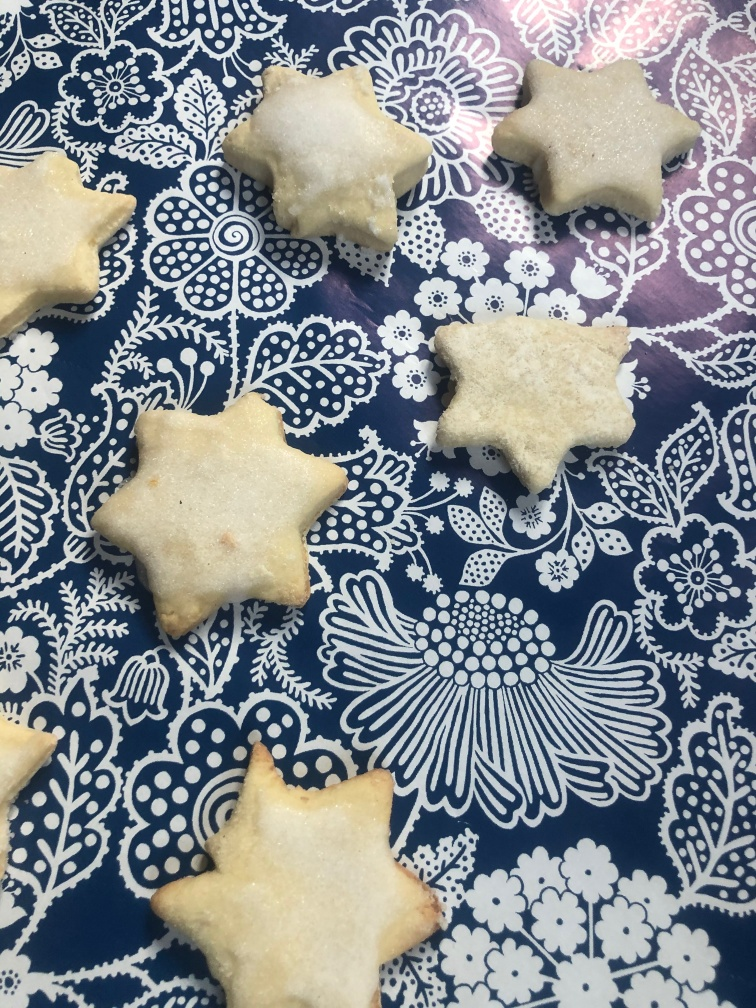star: (143, 739, 444, 1007), (84, 383, 352, 635), (219, 51, 432, 255), (426, 296, 646, 490), (492, 51, 705, 223), (1, 134, 131, 340)
